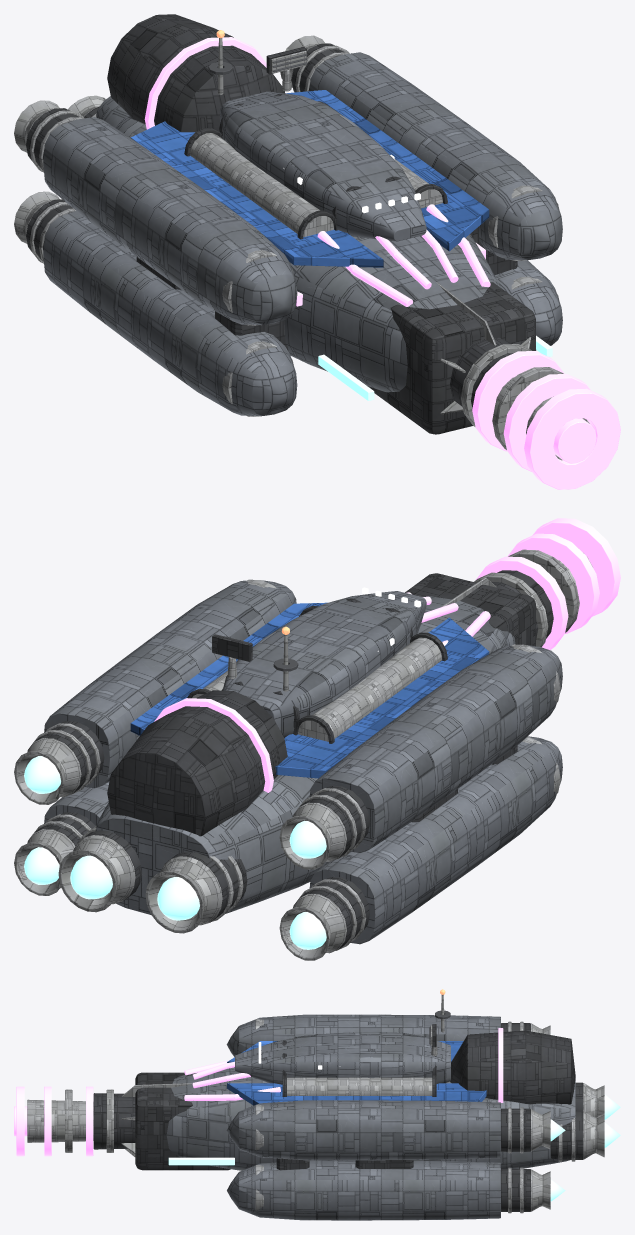
Rendered from plasma_frigate.glb.
The picture shows the model from 3 angles, top to bottom: view 1: azimuth 30°, elevation 25°; view 2: azimuth 150°, elevation 25°; view 3: azimuth 270°, elevation 25°; orthographic projection. The views are drawn at different scales.
Visible parts, largest first — view 1: plasma_frigate; view 2: plasma_frigate; view 3: plasma_frigate.
Part boxes in pixels (x1,y1,x2,y2): plasma_frigate: (14,14,620,489); plasma_frigate: (14,518,620,960); plasma_frigate: (14,989,620,1220).
Bounding box in the file's own units: 3.11 × 2.29 × 7.3.
Materials: 9 (4 with a texture image).
